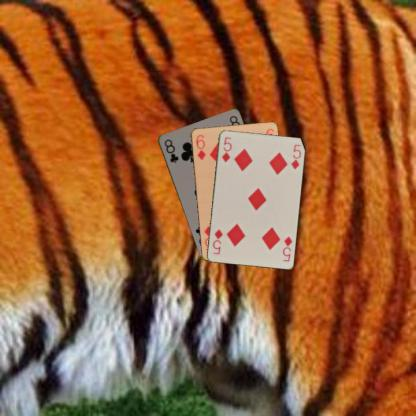5d: (219, 134, 233, 163), (280, 233, 294, 262)
6d: (193, 132, 206, 160)
8c: (161, 136, 180, 164)
